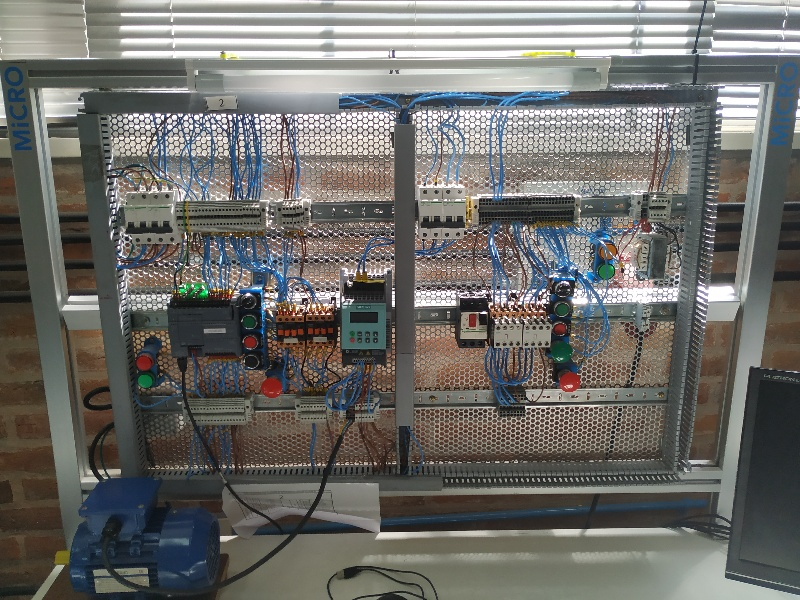Tablero 2: (90, 98, 687, 482)
